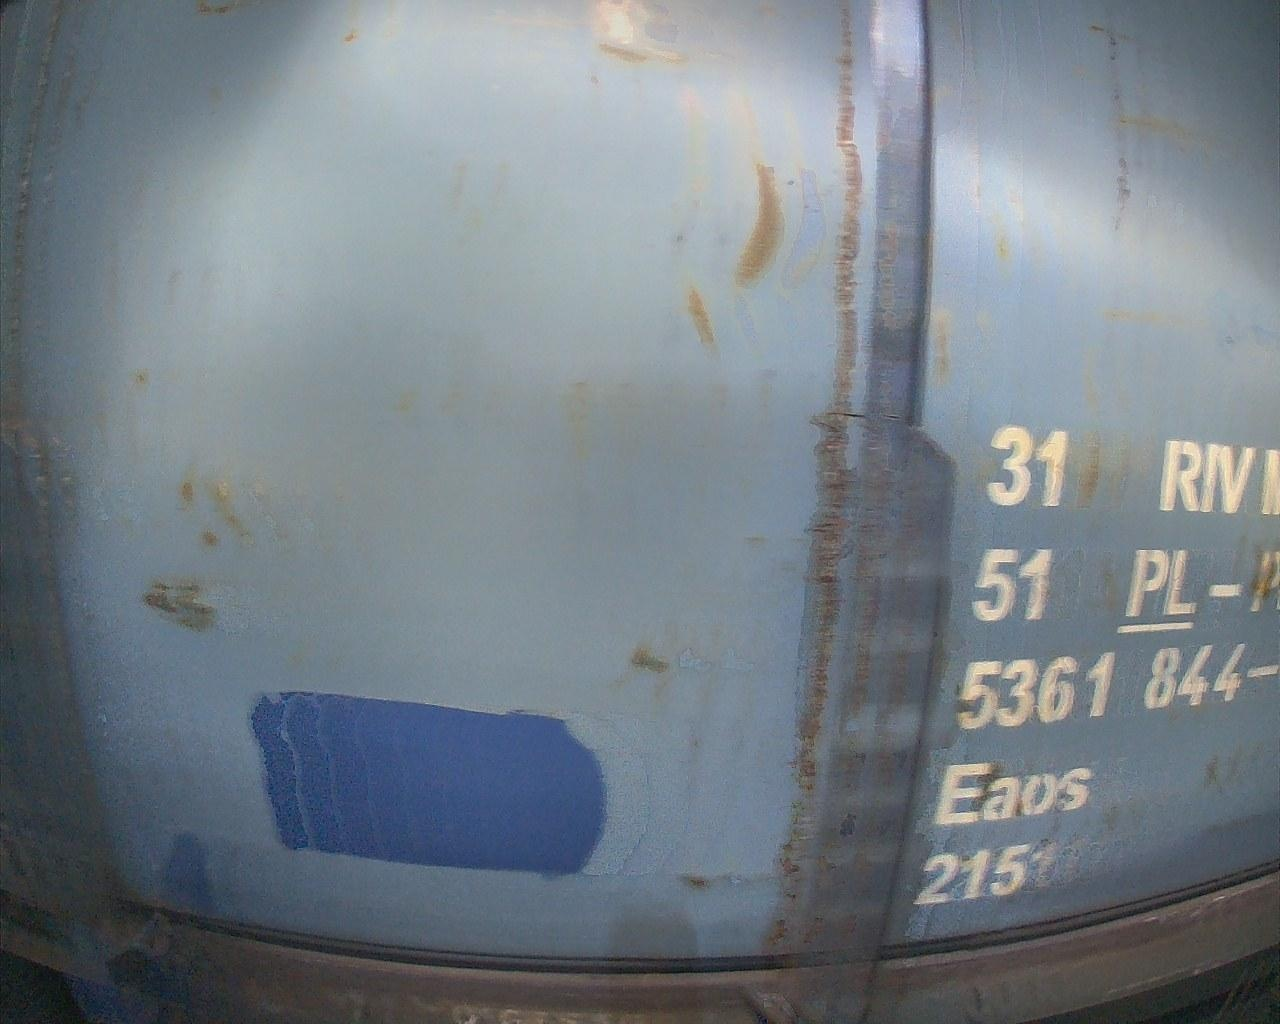UIC: (908, 415, 1280, 914)
